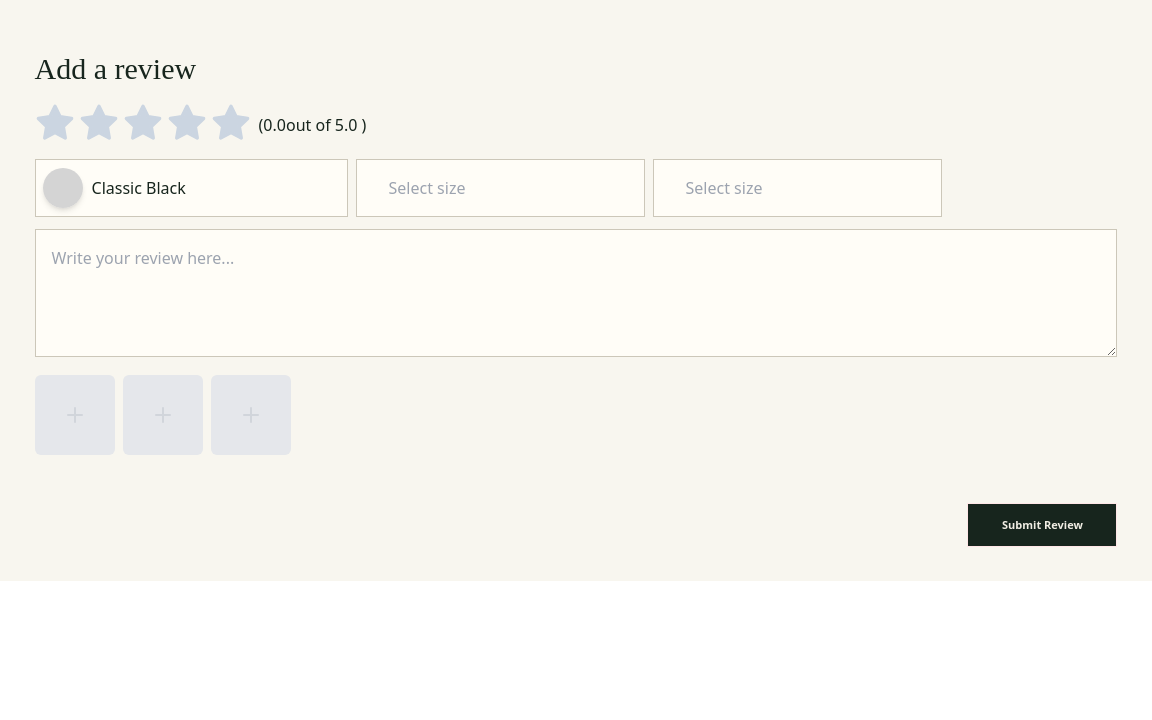
Scenario: ReviewDetails Component Tests › should render rating stars and update rating on click
expect the text "(0.0out of 5.0 )" is shown: met, box [258,112,366,136]
Click the button with test id "star-wrapper-2": (142, 124) [122,102,162,146]
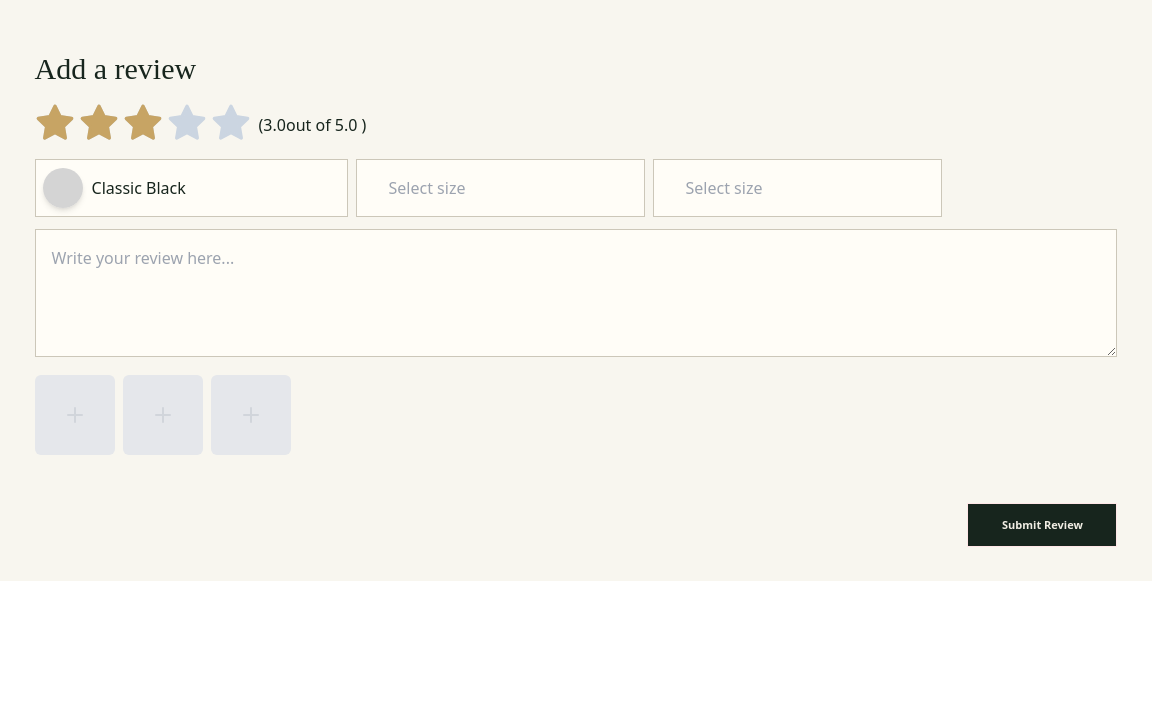
expect the text "(3.0out of 5.0 )" is shown: met, box [258,112,366,136]
